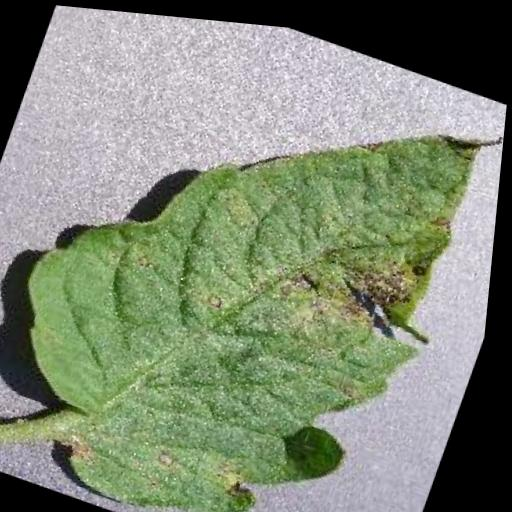Septoria: (0, 1, 508, 512)
